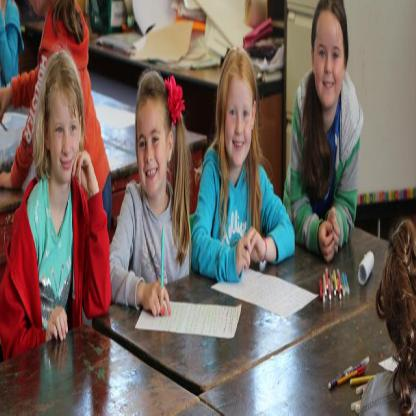face: (314, 5, 345, 108), (139, 91, 168, 195), (49, 80, 78, 181), (226, 68, 253, 168)
